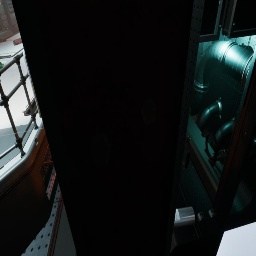0: (173, 206, 195, 228), (0, 62, 6, 70)
FireAlarm ,: (4, 12, 6, 17)
NitrogenTank ,: (13, 38, 22, 45)
